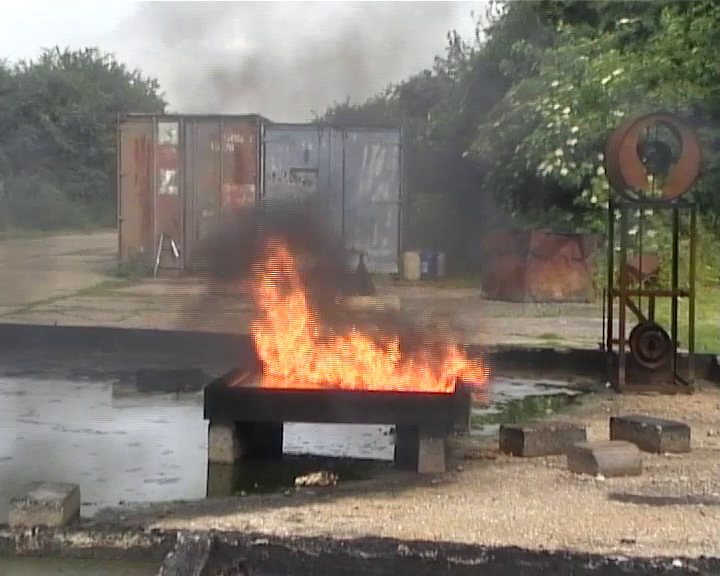fire: (254, 242, 488, 389)
